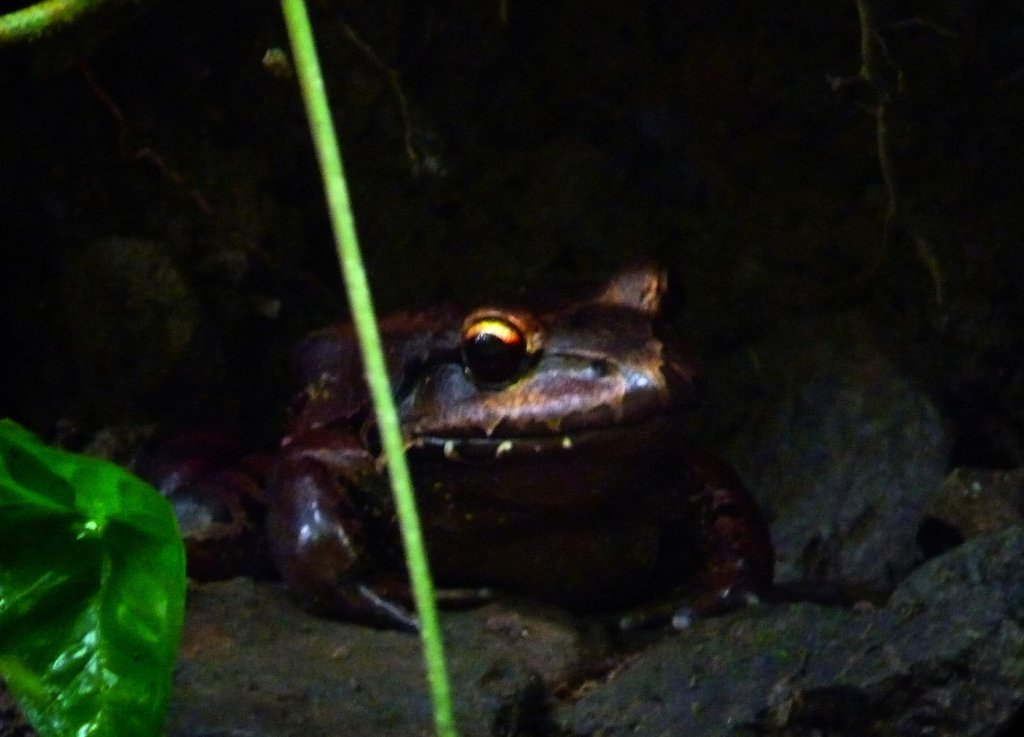Frog: (41, 252, 773, 635)
